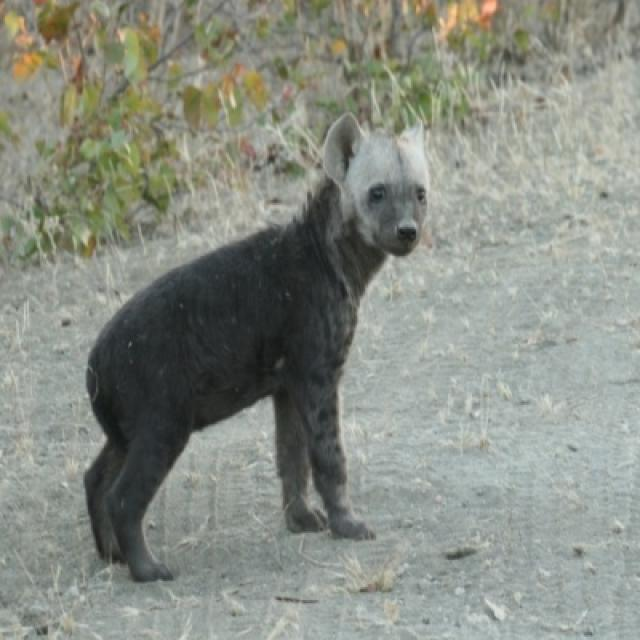hyena: (82, 115, 430, 586)
